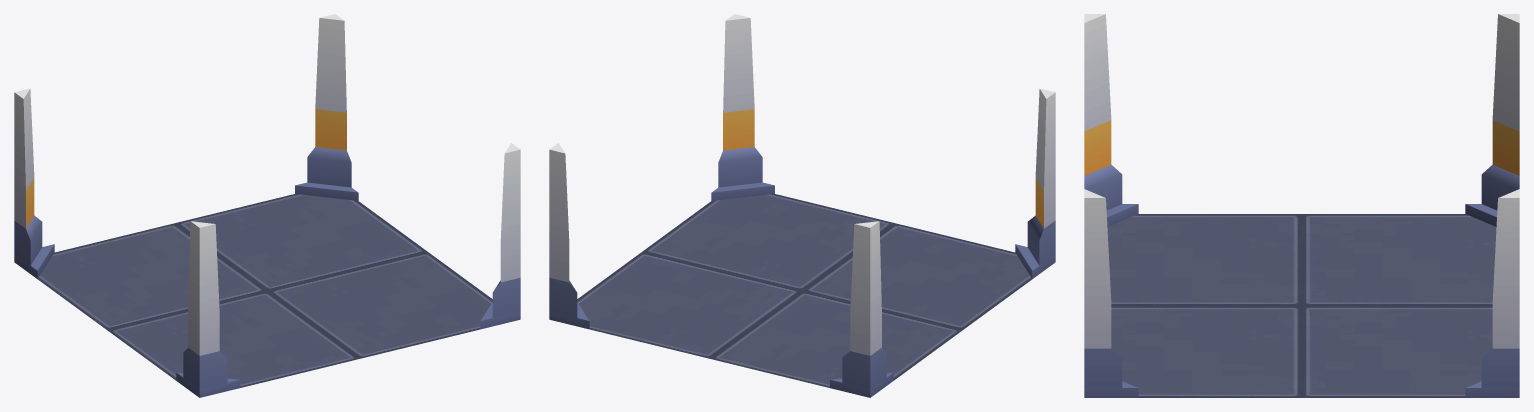
Rendered from corridor-wide-intersection.glb.
3 renders of one model, left to right at view 1: azimuth 30°, elevation 25°; view 2: azimuth 150°, elevation 25°; view 3: azimuth 270°, elevation 25°, orthographic. The views are drawn at different scales.
Parts seen in each view (by area): view 1: corridor-wide-intersection; view 2: corridor-wide-intersection; view 3: corridor-wide-intersection.
Part boxes in pixels (left/top/right/bottom): corridor-wide-intersection: left=14, top=14, right=520, bottom=397; corridor-wide-intersection: left=549, top=14, right=1055, bottom=397; corridor-wide-intersection: left=1084, top=14, right=1519, bottom=397.
Bounding box in the file's own units: 8 × 4.05 × 8.
Materials: 1 (1 with a texture image).
